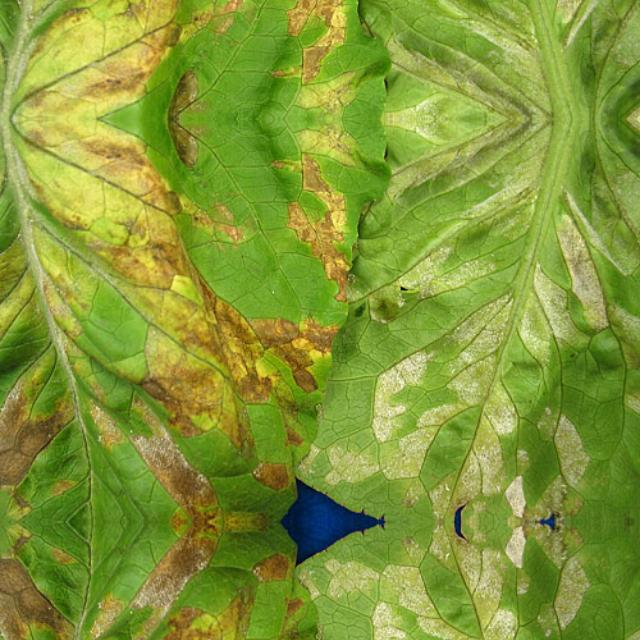Downy_mildew: (499, 210, 618, 512), (369, 333, 493, 502), (499, 530, 618, 640), (369, 540, 493, 640), (499, 0, 618, 26)
